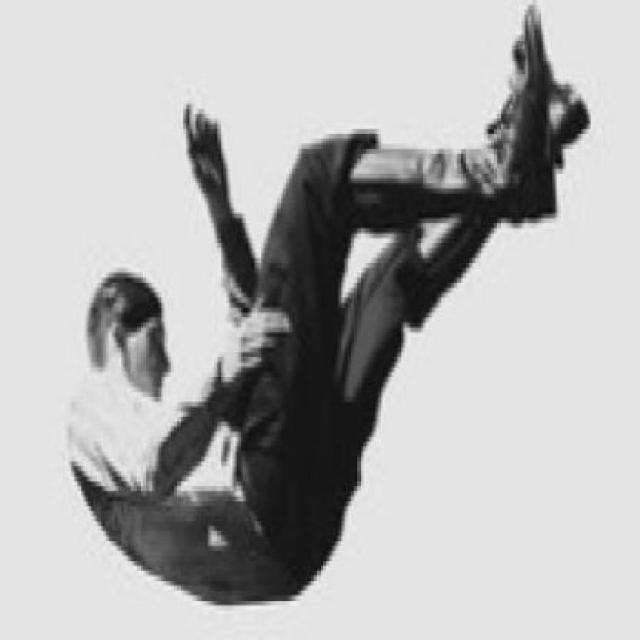fall: (60, 0, 588, 611)
